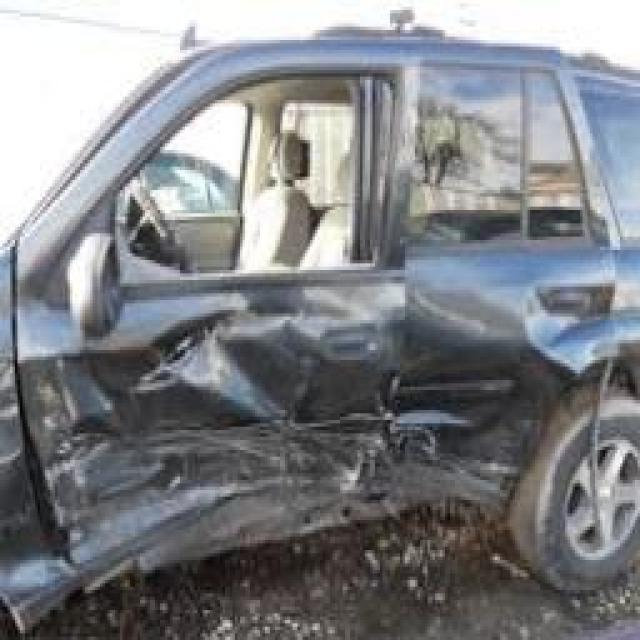Door: (12, 73, 403, 590), (367, 61, 620, 573)
Fender: (0, 265, 87, 631)
